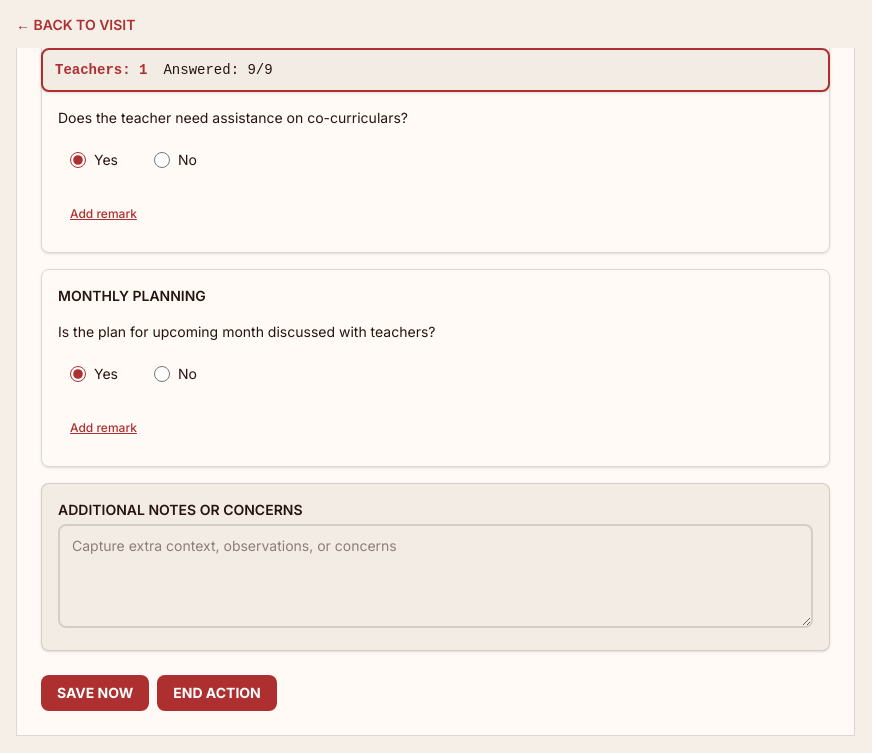
it: VisitActionDetailPage › shows AF team interaction /end 422 guidance with type-specific message
(page scrolled)
Click the button "End Action": (217, 693) x1=157 y1=675 x2=277 y2=711
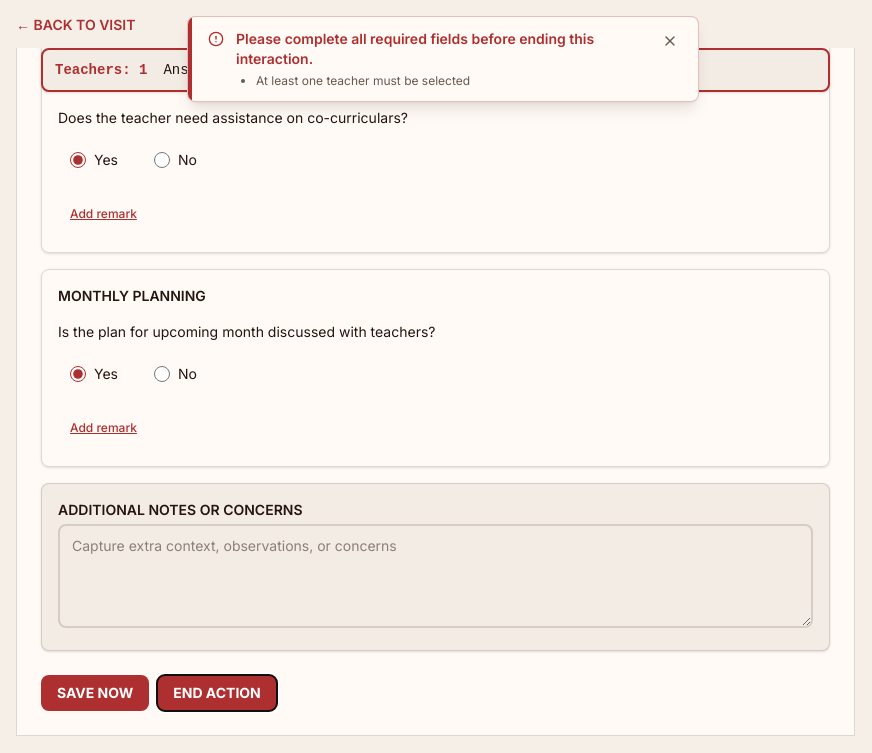
Expected: the text "Please complete all required fields before ending this interaction." is shown, x1=236 y1=29 x2=646 y2=69
Expected: the list item "At least one teacher must be selected" is shown, x1=256 y1=73 x2=470 y2=88
